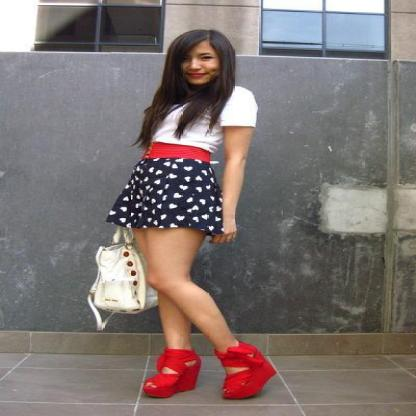bag: (87, 230, 157, 324)
shirt: (153, 86, 257, 150)
shoe: (142, 342, 276, 399)
skirt: (106, 158, 223, 237)
